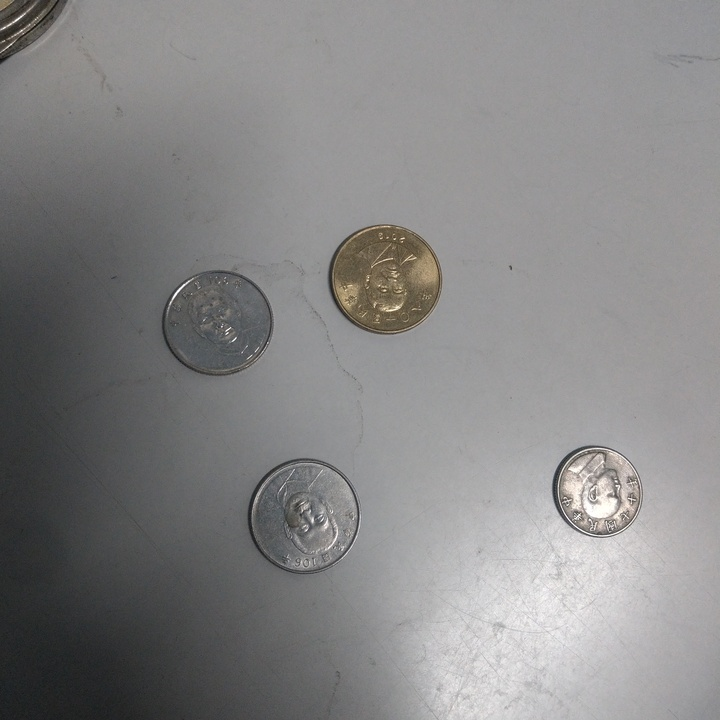10 dollar: (247, 458, 360, 577), (159, 269, 271, 378)
5 dollar: (558, 442, 645, 542)
50 dollar: (327, 226, 444, 337)
